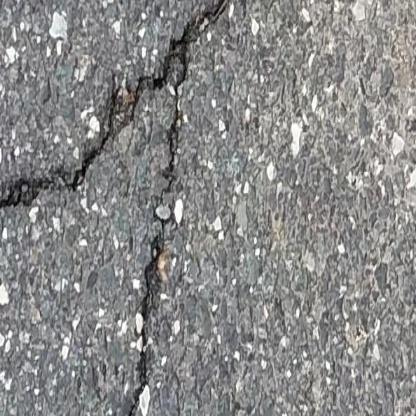Cracks: (0, 0, 247, 222), (120, 232, 166, 416)
